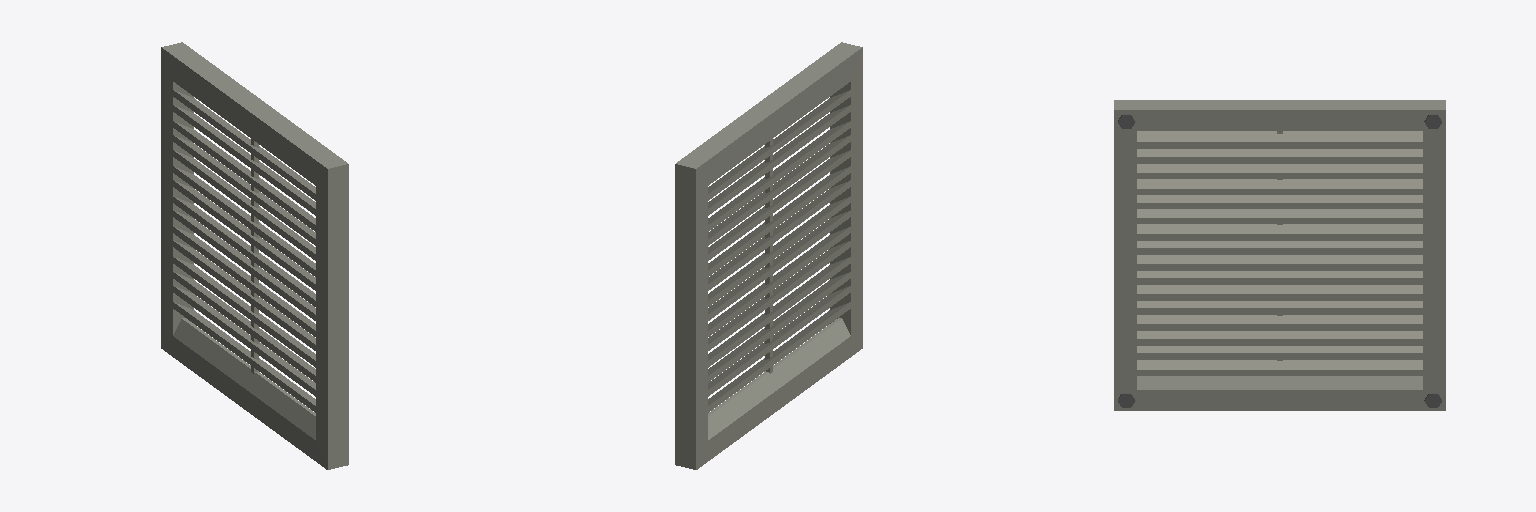
The model's file is AirVent.obj.
3 views of the same model, side by side, from view 1: azimuth 30°, elevation 25°; view 2: azimuth 150°, elevation 25°; view 3: azimuth 270°, elevation 25° (orthographic).
Parts seen in each view (by area): view 1: AirVent_Cube; view 2: AirVent_Cube; view 3: AirVent_Cube.
Part boxes in pixels (bbox=[...]): AirVent_Cube: bbox=[161, 42, 348, 469]; AirVent_Cube: bbox=[675, 42, 862, 469]; AirVent_Cube: bbox=[1114, 100, 1445, 410].
Size of the model in its own units: 0.0633 by 0.792 by 0.792.